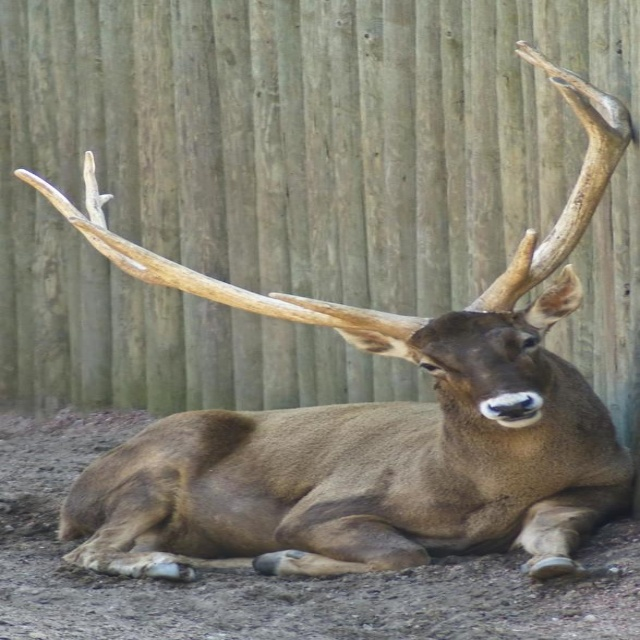Deer: (15, 41, 637, 583)
